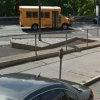Car: (2, 63, 99, 100)
